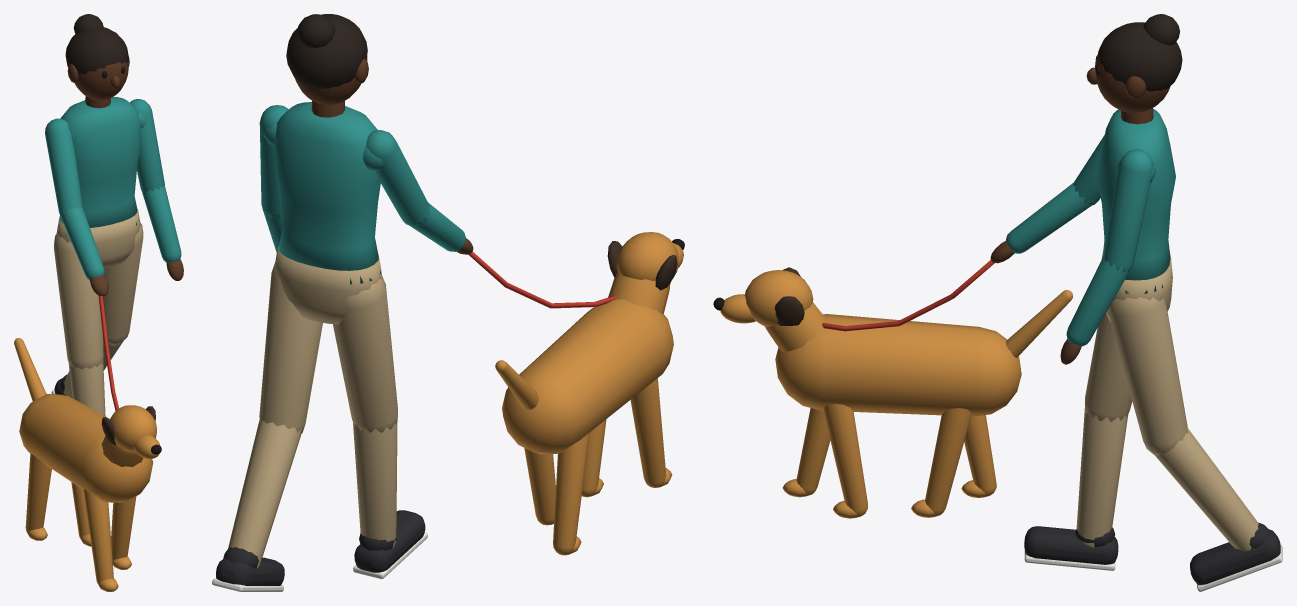
Rendered from dog_walker.fbx.
3 renders of one model, left to right at view 1: azimuth 30°, elevation 25°; view 2: azimuth 150°, elevation 25°; view 3: azimuth 270°, elevation 25°, orthographic. The views are drawn at different scales.
Visible parts, largest first — view 1: dog_walker; view 2: dog_walker; view 3: dog_walker.
Part boxes in pixels (x1,y1,x2,y2): dog_walker: (14,14,183,591); dog_walker: (212,14,684,591); dog_walker: (713,14,1282,591).
Bounding box in the file's own units: 0.8377 × 1.79 × 1.64.
